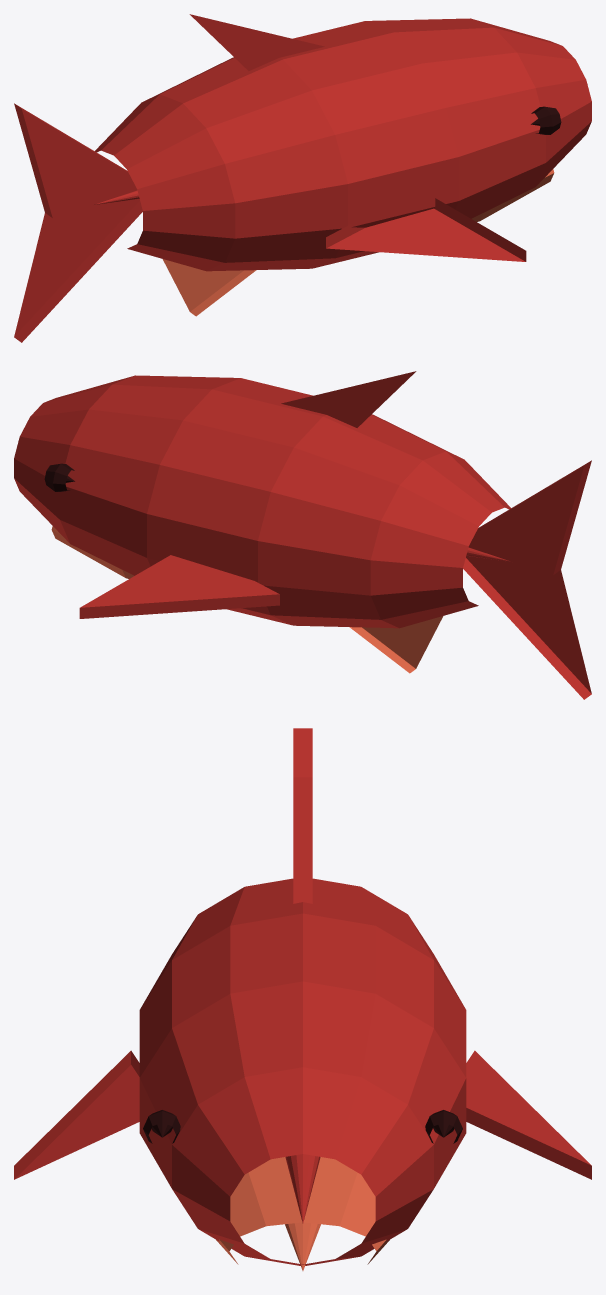
Rendered from predator-red-fish.glb.
3 renders of one model, top to bottom at view 1: azimuth 30°, elevation 25°; view 2: azimuth 150°, elevation 25°; view 3: azimuth 270°, elevation 25°, orthographic. The views are drawn at different scales.
Parts seen in each view (by area): view 1: Underwater Detector; view 2: Underwater Detector; view 3: Underwater Detector.
Part boxes in pixels (box(x1,y1,x2,y2)): Underwater Detector: box(14, 14, 591, 342); Underwater Detector: box(14, 371, 591, 699); Underwater Detector: box(14, 728, 591, 1270).
Bounding box in the file's own units: 4.23 × 2.11 × 2.96.
